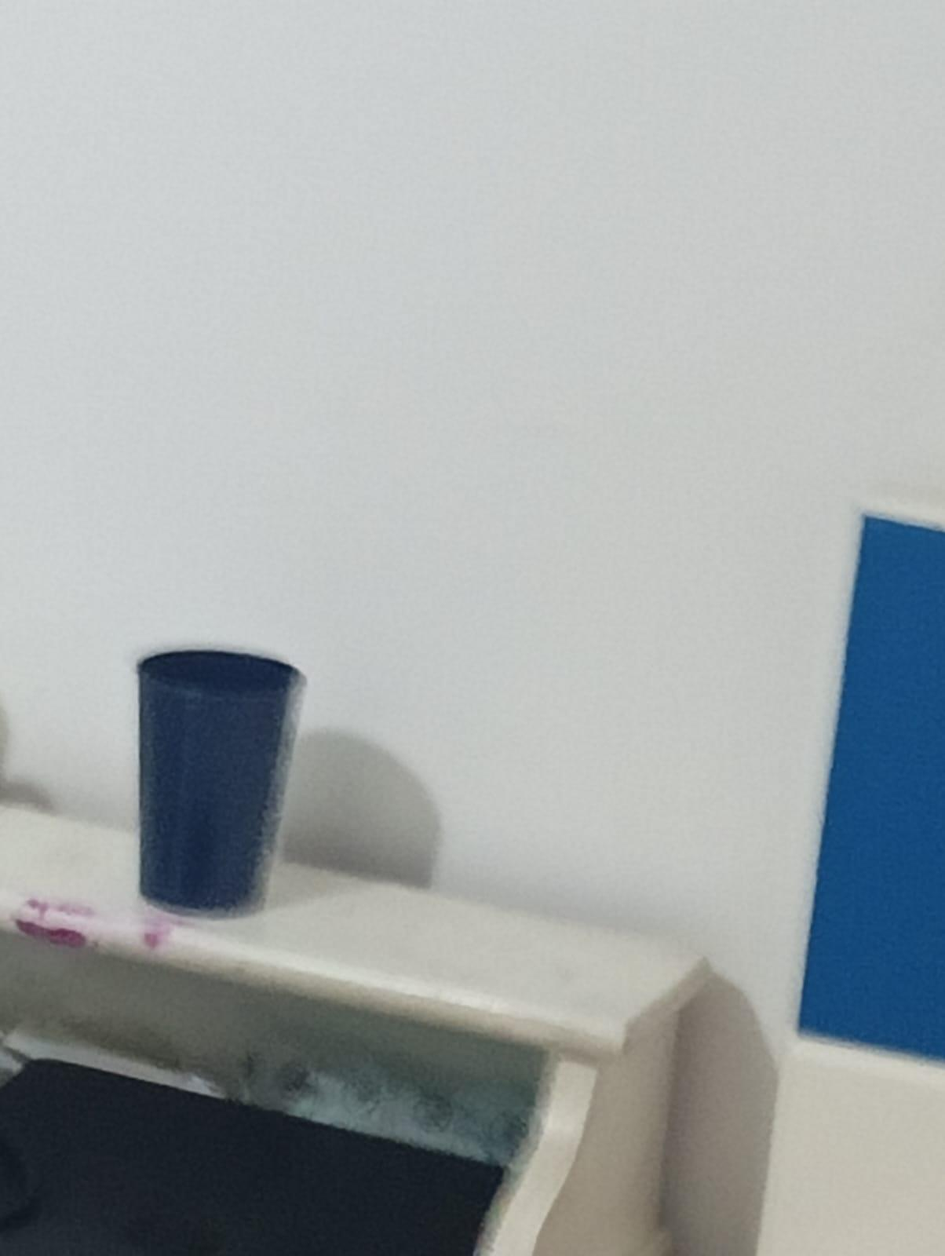cup: (137, 649, 304, 913), (137, 647, 306, 709)
